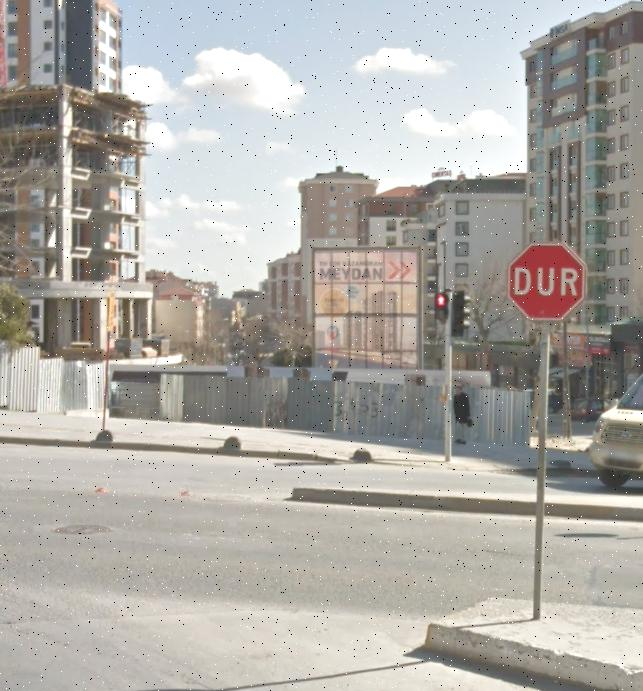stop: (502, 238, 592, 323)
